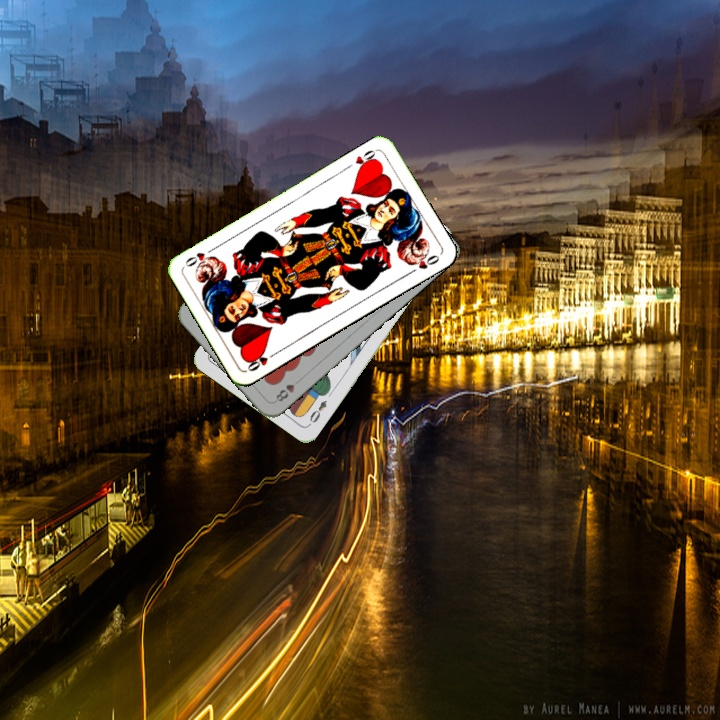EO: (304, 396, 330, 428)
H8: (272, 380, 297, 404)
HO: (243, 348, 280, 374), (351, 145, 380, 173)
